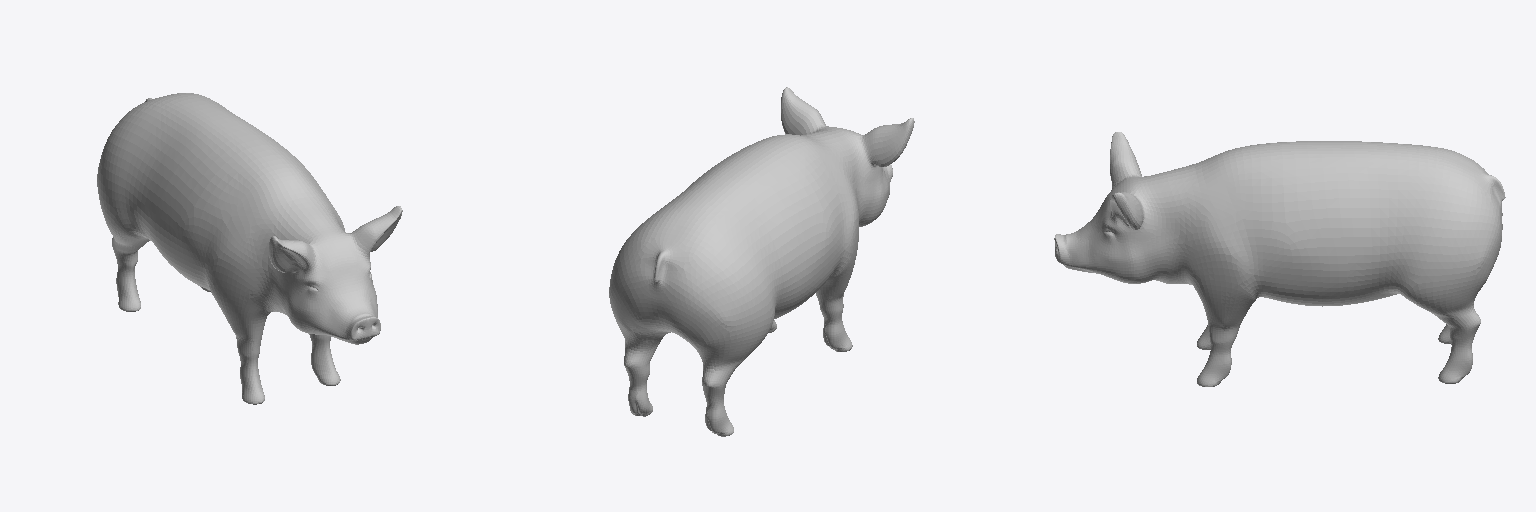
The model's file is pig.obj.
3 views of the same model, side by side, from view 1: azimuth 30°, elevation 25°; view 2: azimuth 150°, elevation 25°; view 3: azimuth 270°, elevation 25° (orthographic).
Visible parts, largest first — view 1: pig; view 2: pig; view 3: pig.
Part boxes in pixels (bbox=[...]): pig: bbox=[97, 93, 402, 404]; pig: bbox=[609, 87, 914, 436]; pig: bbox=[1054, 132, 1505, 386].
Bounding box in the file's own units: 0.6214 × 0.8947 × 1.67.